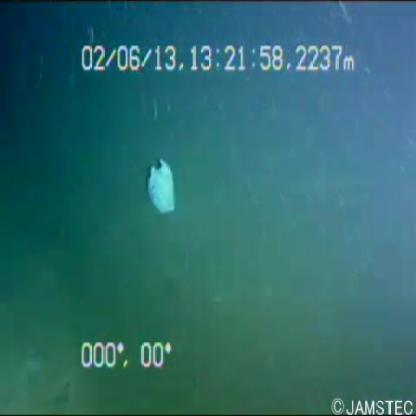Rác: (133, 149, 189, 232)
